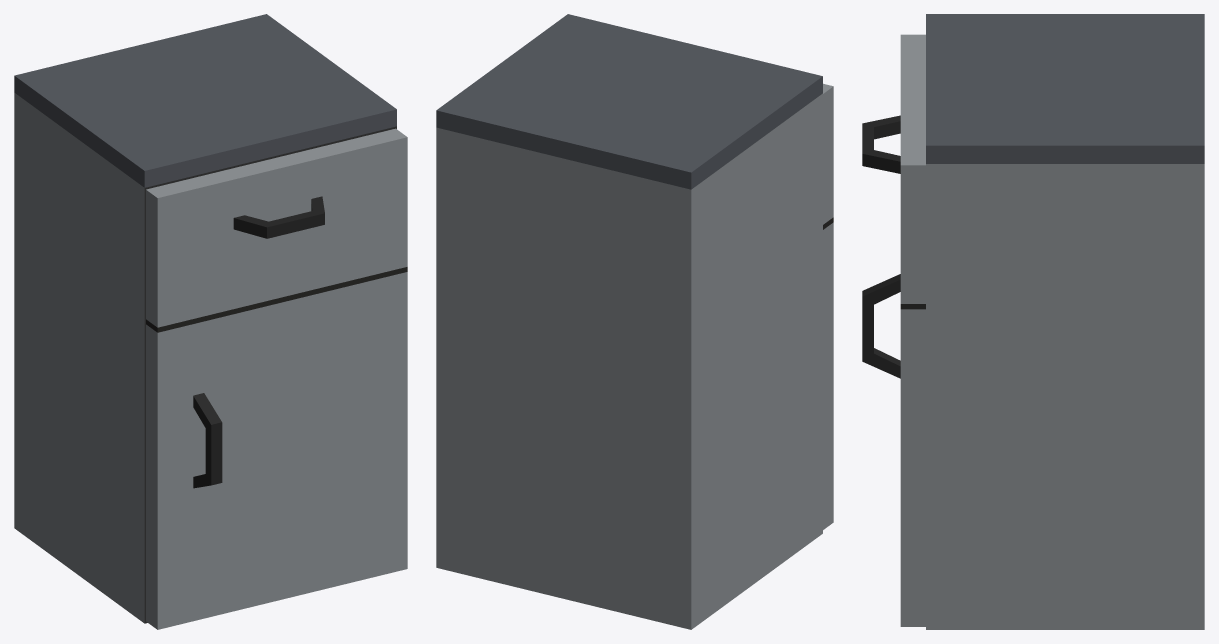
File: Kitchen_Cabinet_3C.fbx
The picture shows the model from 3 angles, left to right: view 1: azimuth 30°, elevation 25°; view 2: azimuth 150°, elevation 25°; view 3: azimuth 270°, elevation 25°; orthographic projection. The views are drawn at different scales.
Parts seen in each view (by area): view 1: polySurface1782; view 2: polySurface1782; view 3: polySurface1782.
Part boxes in pixels (x1=…): polySurface1782: x1=14, y1=14, x2=407, y2=629; polySurface1782: x1=436, y1=14, x2=833, y2=629; polySurface1782: x1=862, y1=14, x2=1204, y2=629.
Bounding box in the file's own units: 0.7792 × 1.34 × 0.8565.
1 material, 1 textured.
